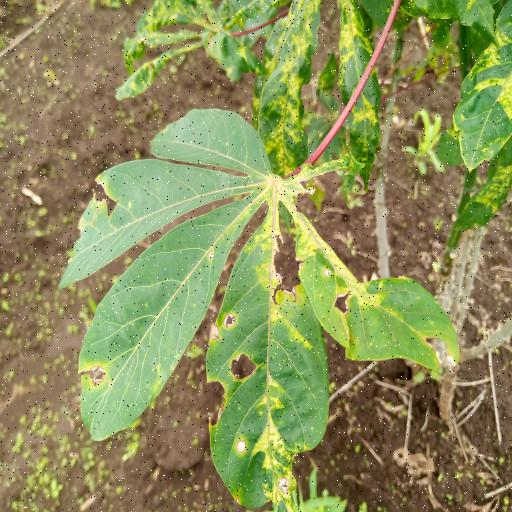Cassava_Mosaic: (76, 104, 461, 504), (111, 0, 272, 92)
